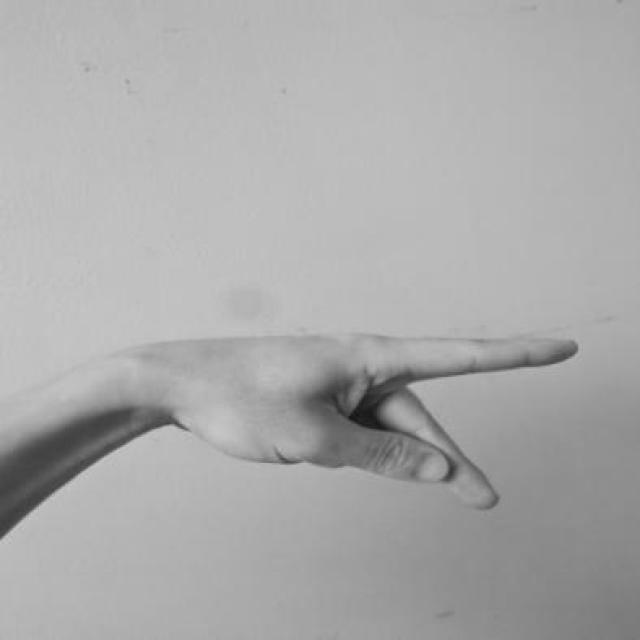P: (148, 321, 586, 522)
